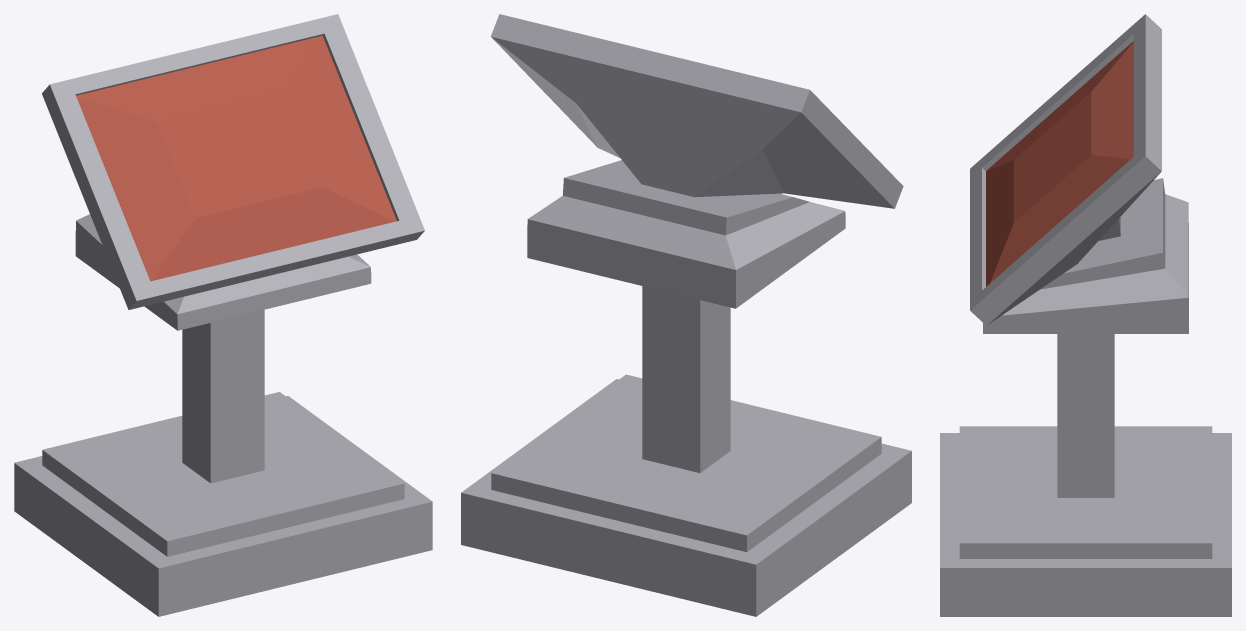
Rendered from Terminal.fbx.
3 renders of one model, left to right at view 1: azimuth 30°, elevation 25°; view 2: azimuth 150°, elevation 25°; view 3: azimuth 270°, elevation 25°, orthographic. The views are drawn at different scales.
Parts seen in each view (by area): view 1: Plane.014; view 2: Plane.014; view 3: Plane.014.
Part boxes in pixels (x1,y1,x2,y2): Plane.014: (14,14,432,616); Plane.014: (461,14,911,616); Plane.014: (940,14,1231,616).
Bounding box in the file's own units: 284 × 433 × 247.
